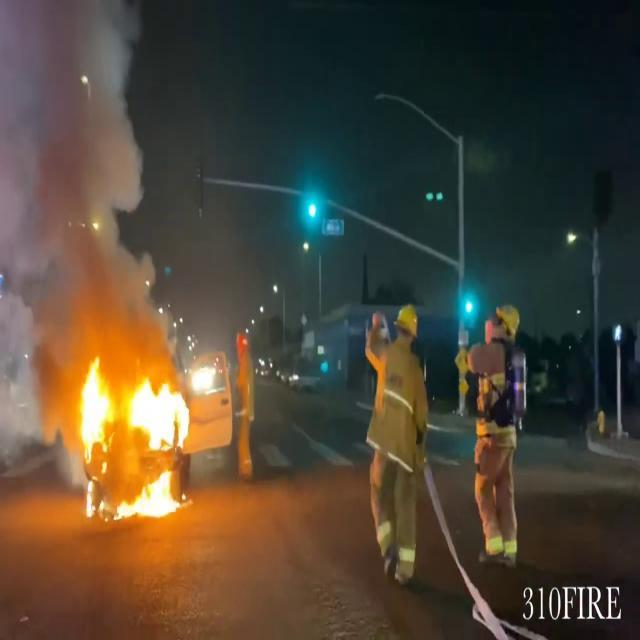Fire: (70, 342, 194, 522)
Smoke: (0, 0, 168, 375)
